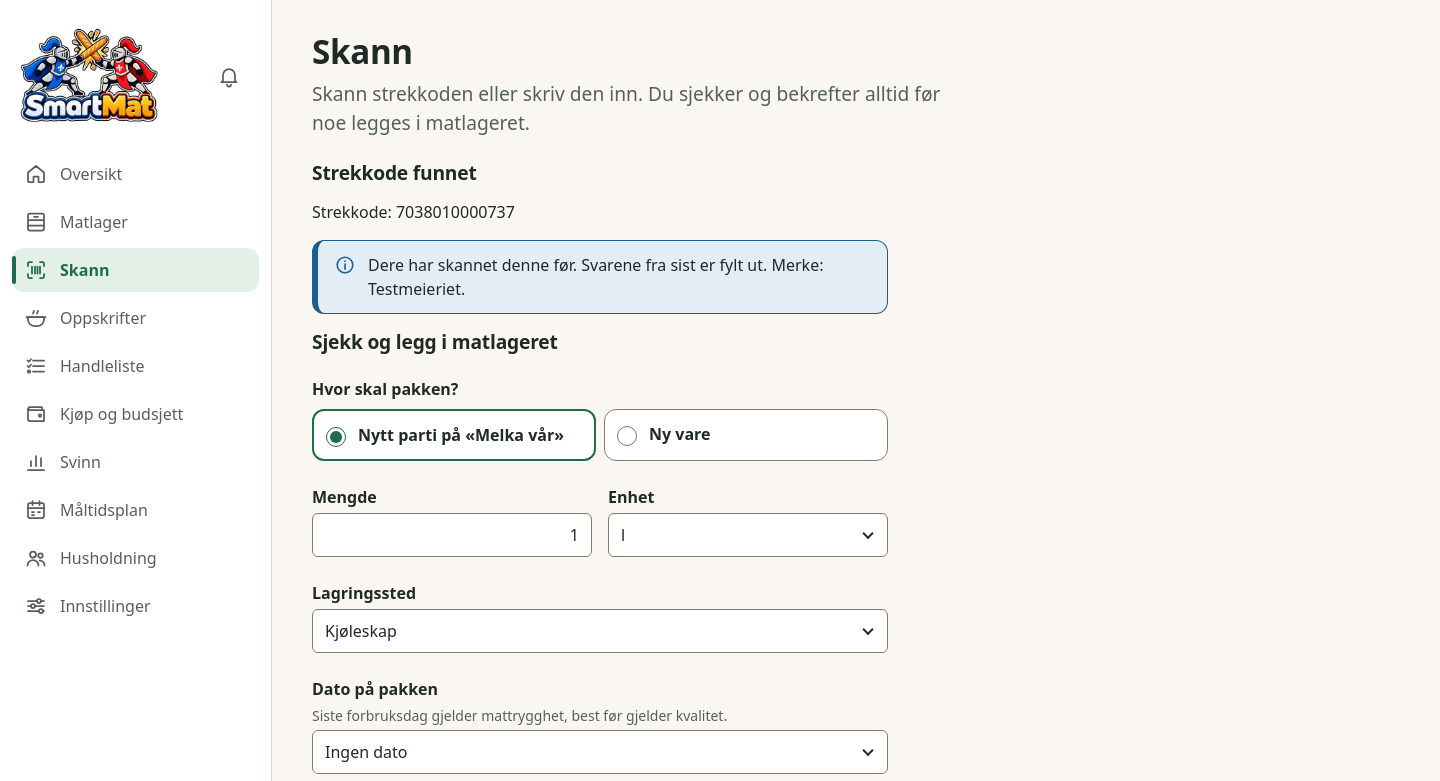
FR-SCAN-002/-005 from lookup to the pantry › "Ny vare" instead of the item from last time shows the item fields again
Click the radio button labelled "Ny vare".
click(627, 436)  # box [617,426,637,446]
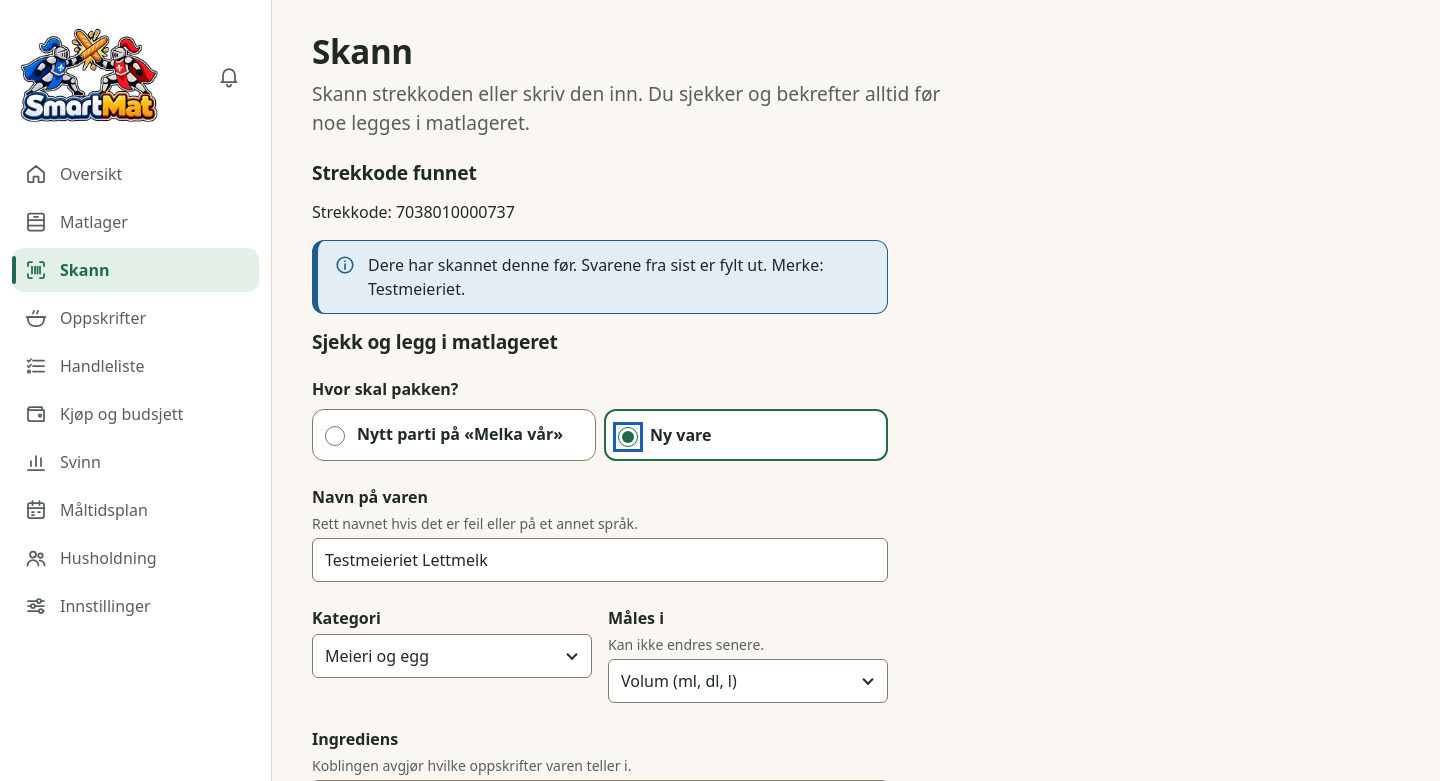
Expected: the field labelled "Navn på varen" holds "Testmeieriet Lettmelk", [312,538,888,582]
